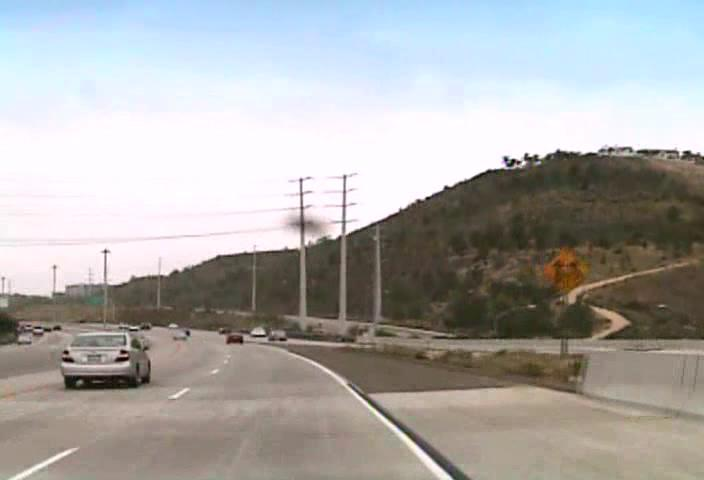addedLane: (542, 244, 589, 293)
